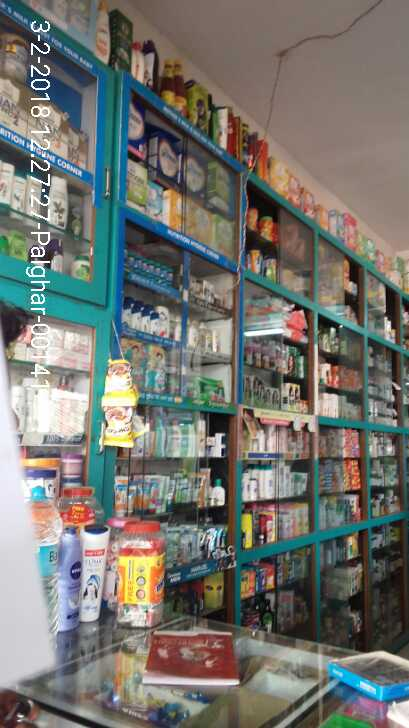vicks: (124, 248, 176, 283)
